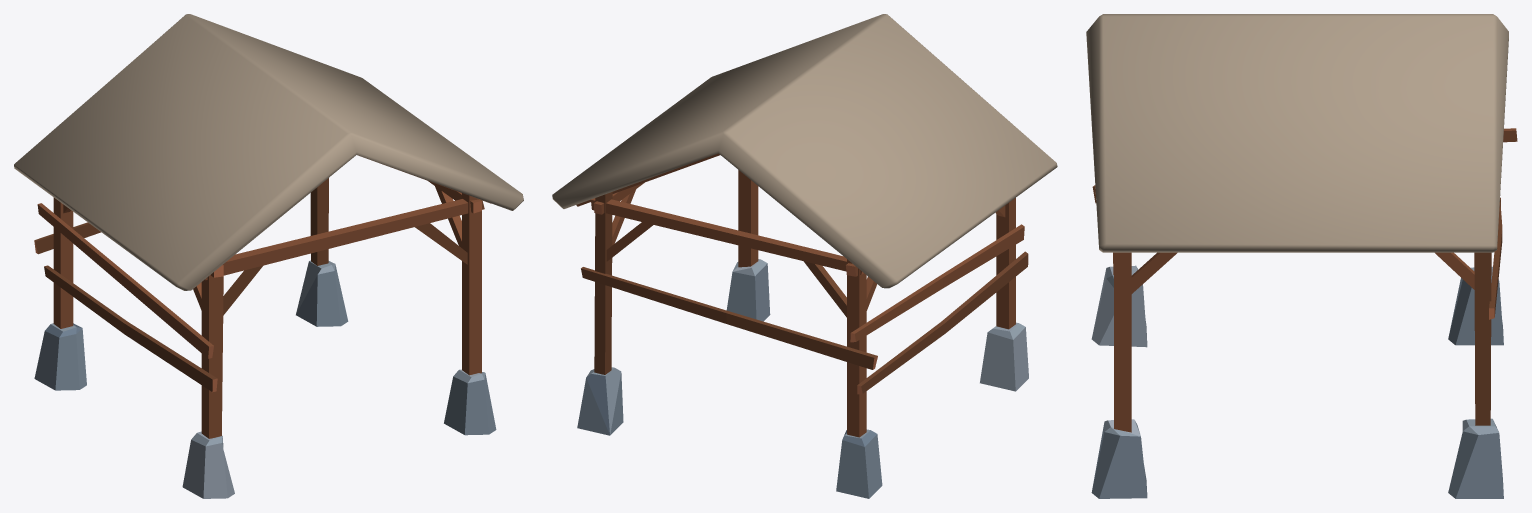
The model's file is shelter.glb.
3 views of the same model, side by side, from view 1: azimuth 30°, elevation 25°; view 2: azimuth 150°, elevation 25°; view 3: azimuth 270°, elevation 25° (orthographic). The views are drawn at different scales.
Parts seen in each view (by area): view 1: Shelter_Texture-base_0; view 2: Shelter_Texture-base_0; view 3: Shelter_Texture-base_0.
Boxes of the visible parts, left/top/right/bottom form: Shelter_Texture-base_0: left=14, top=14, right=523, bottom=498; Shelter_Texture-base_0: left=552, top=14, right=1057, bottom=498; Shelter_Texture-base_0: left=1086, top=14, right=1517, bottom=498.
Bounding box in the file's own units: 3.85 × 3.5 × 3.43.
1 material, 1 textured.
